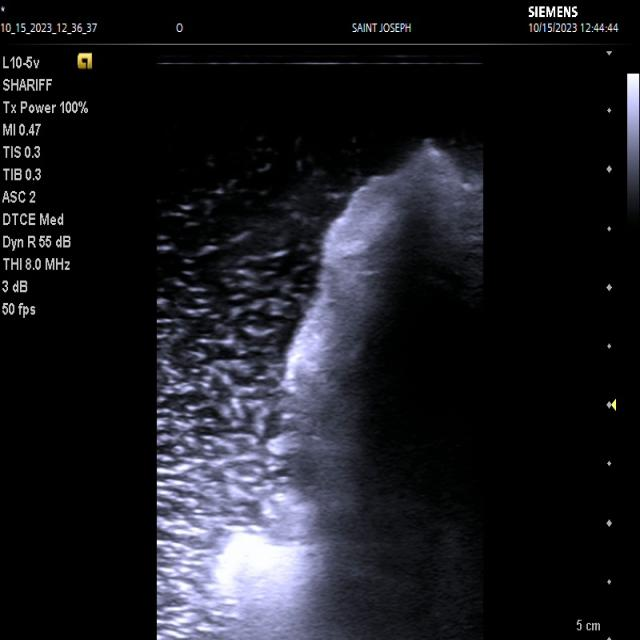tissue: (223, 142, 485, 640)
